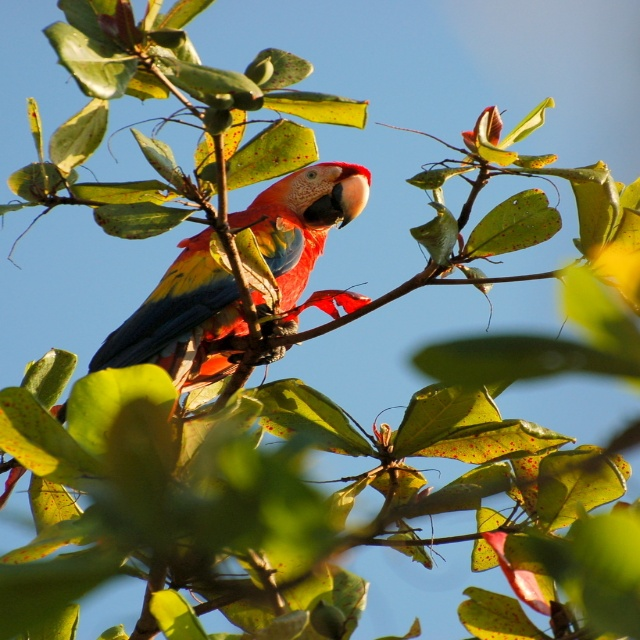Parrot: (84, 154, 378, 379)
